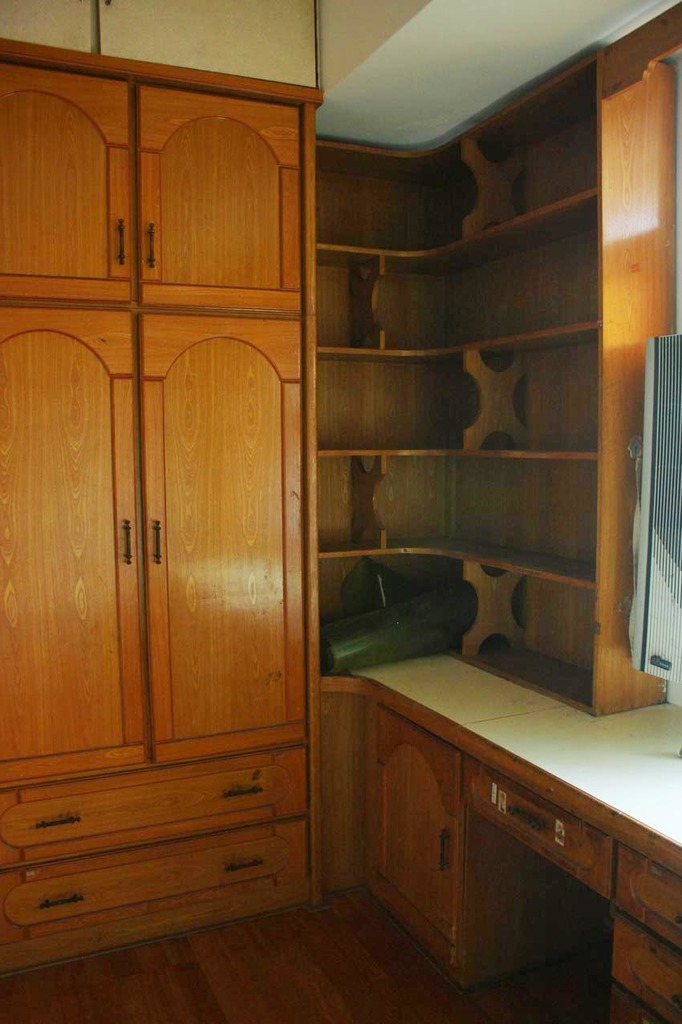Cabinetry: (0, 94, 324, 912), (371, 704, 573, 969), (470, 756, 613, 903), (606, 850, 681, 1022)
